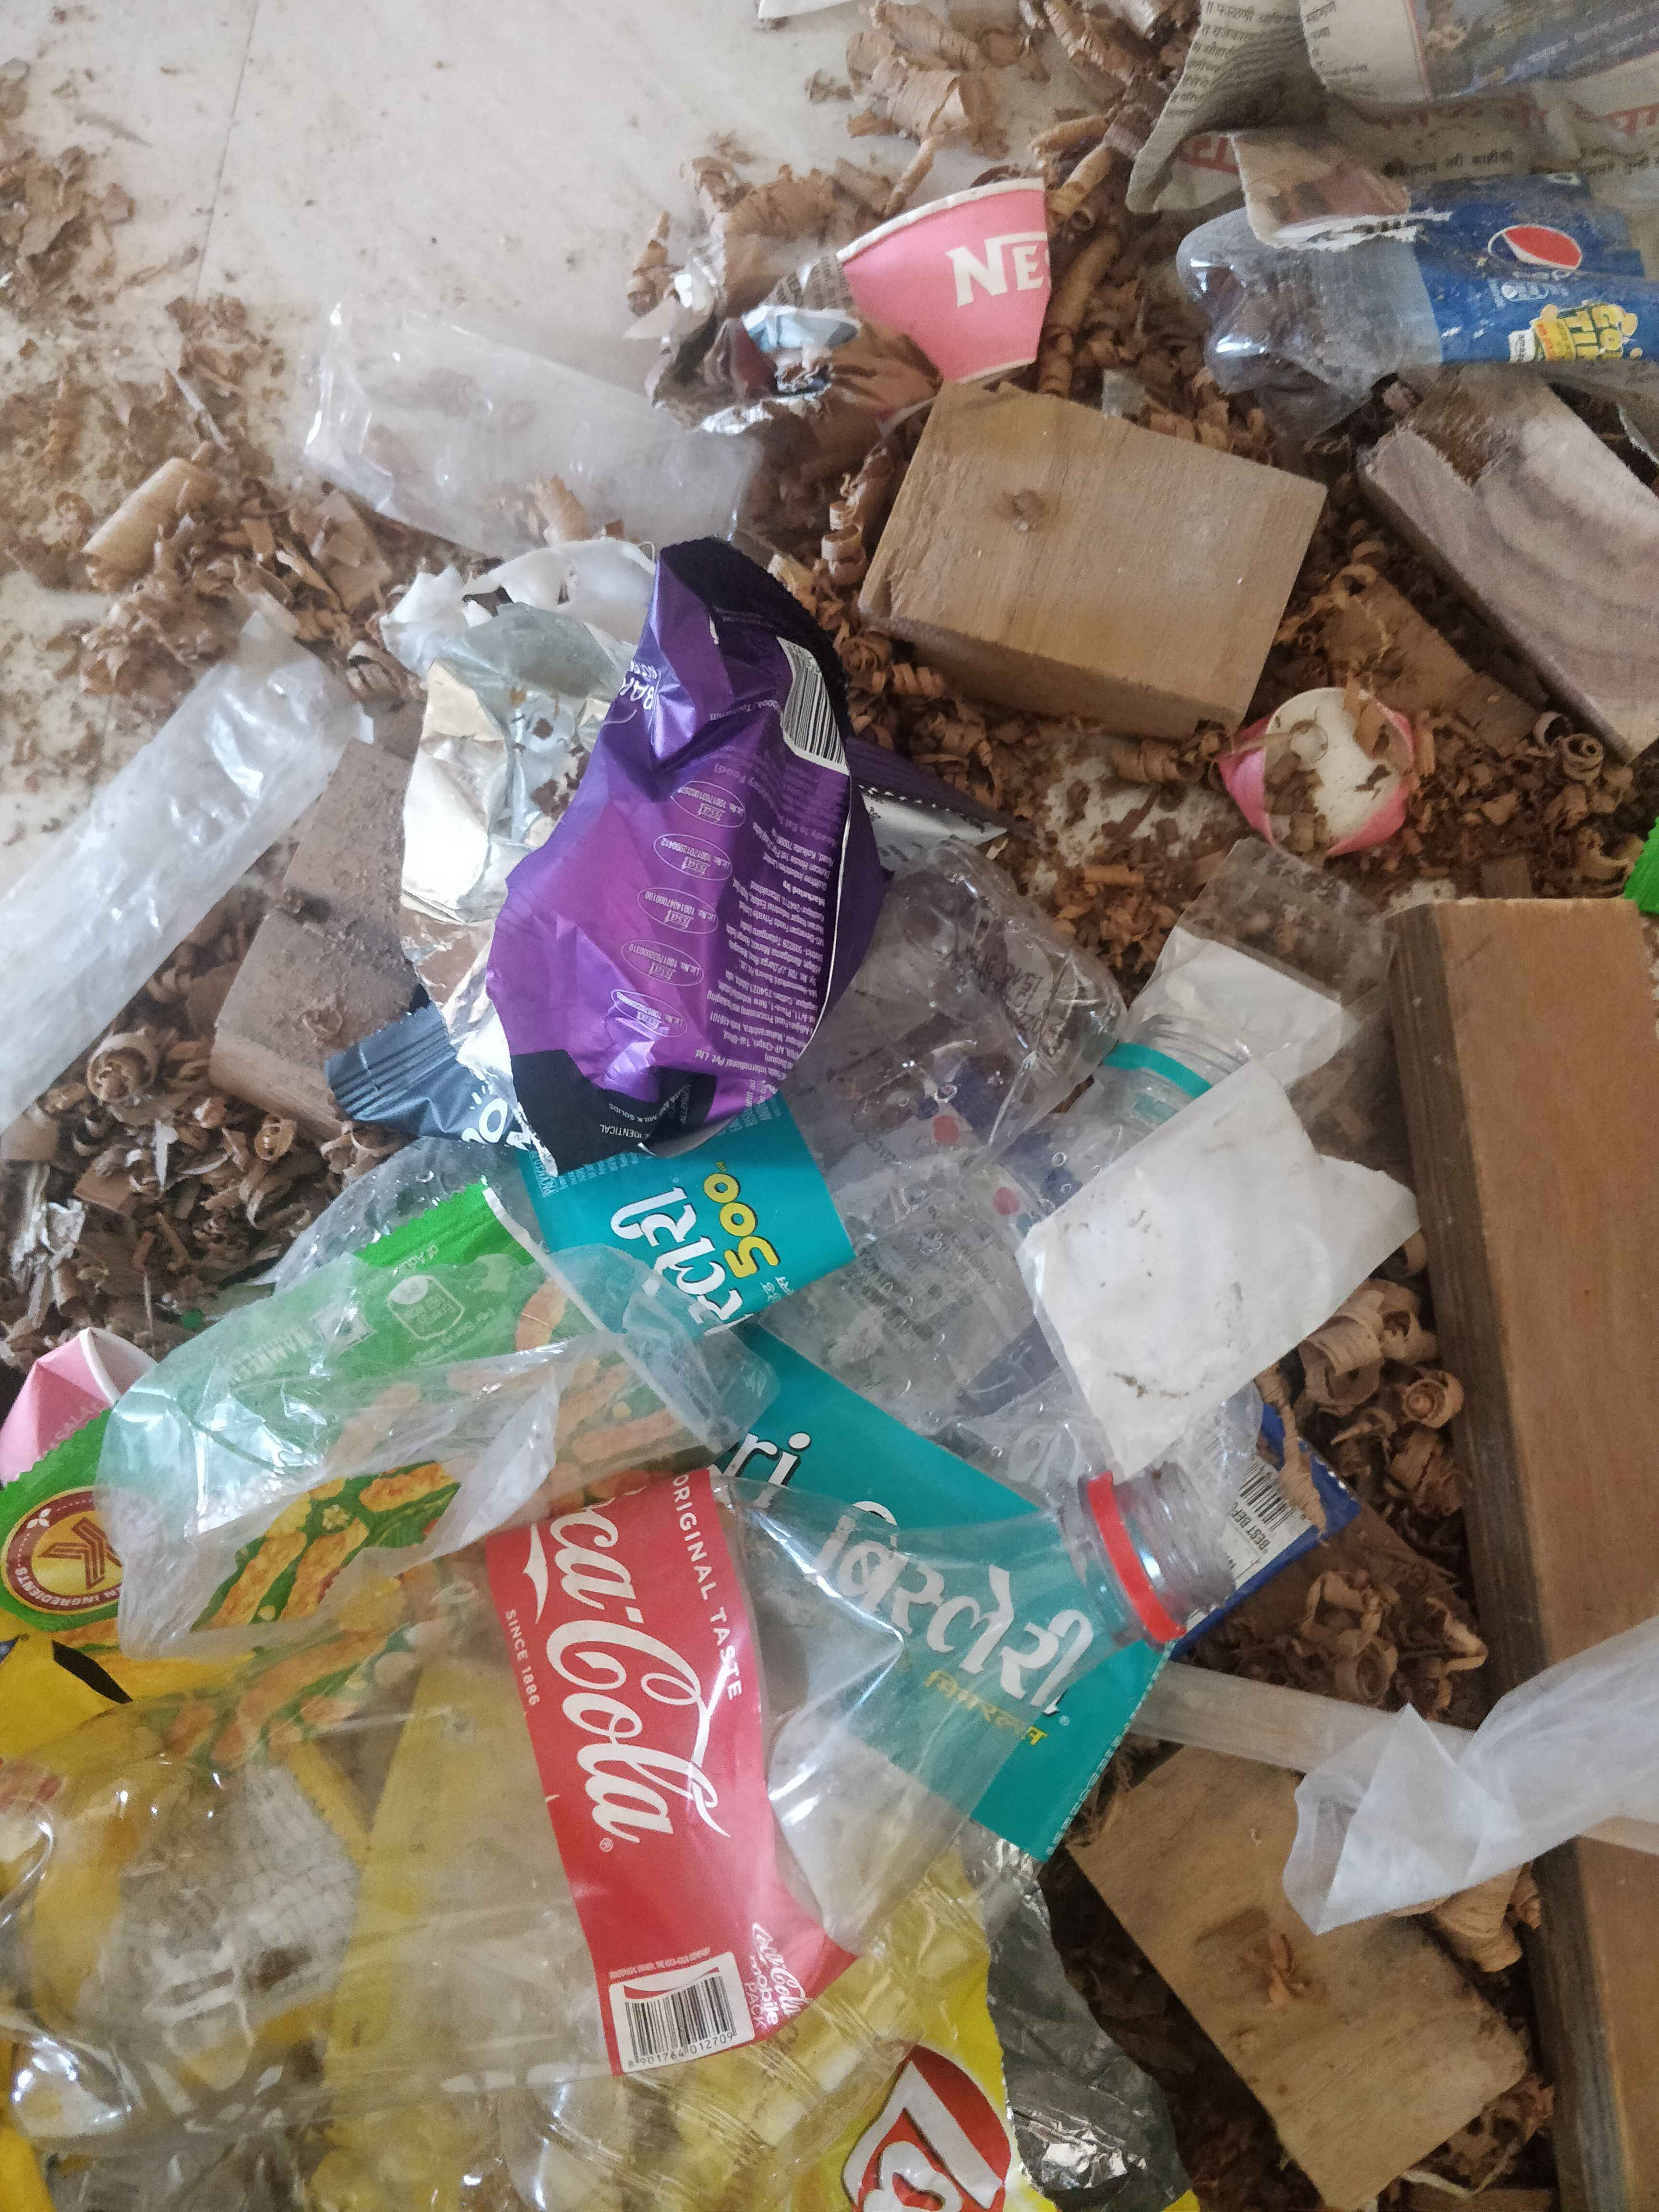Bisleri: (709, 1334, 1131, 1724), (575, 1141, 854, 1303)
Coca-Cola: (532, 1477, 809, 1965)
Lays: (805, 2013, 1033, 2212)
pepsi: (1450, 192, 1598, 376)
